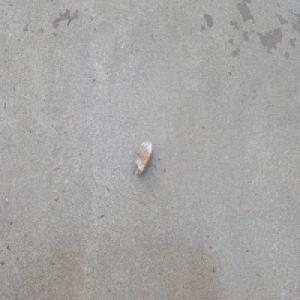Rock: (133, 140, 152, 175)
